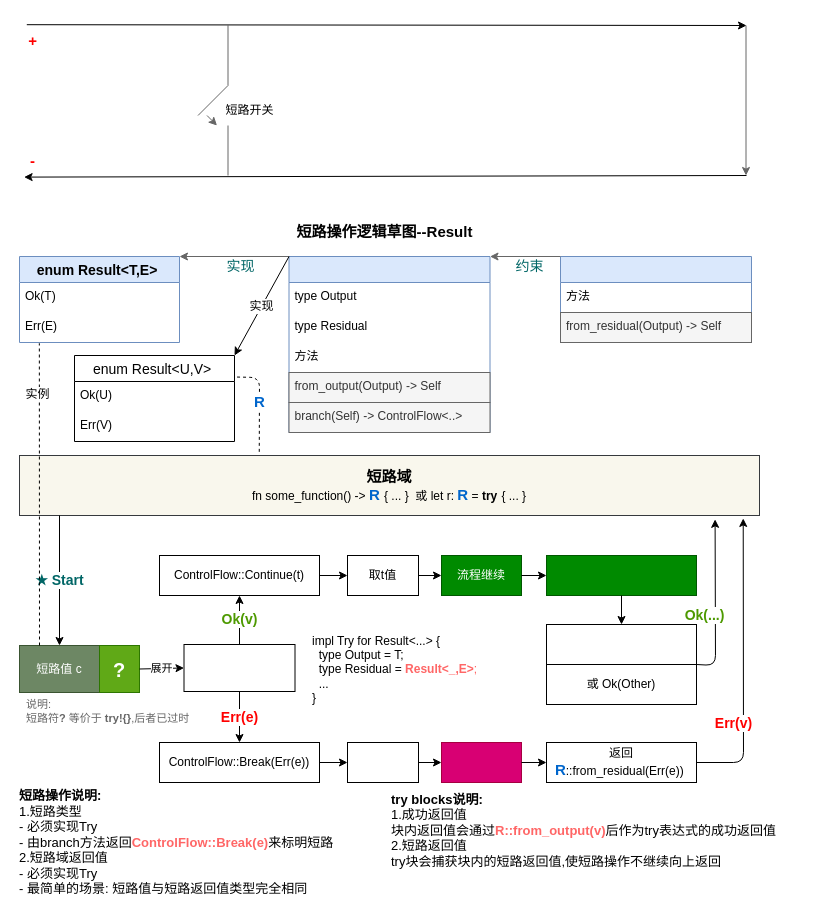
Image size: 817x920. Some labels were removed from this diagram. Each missing label, with the box of its shape:
c.branch(): (183, 644, 295, 692)
trait FromResidual: (560, 256, 752, 342)
trait Try: (288, 256, 490, 432)
业务使用v值: (546, 554, 696, 596)
中断执行: (440, 742, 522, 782)
取Err(e)值: (346, 742, 418, 782)
返回 R ::from_output(Other): (546, 624, 696, 664)
